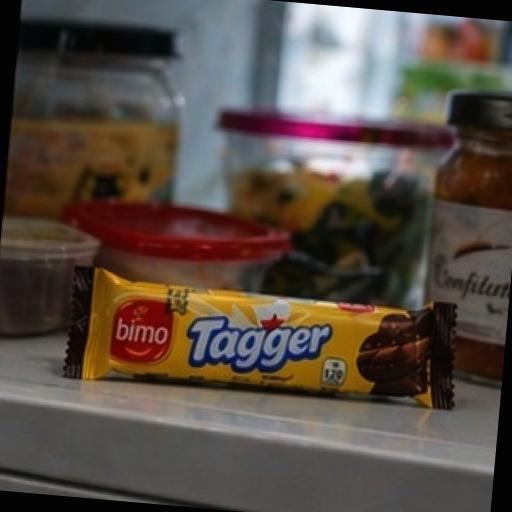tagger: (35, 219, 512, 440)
